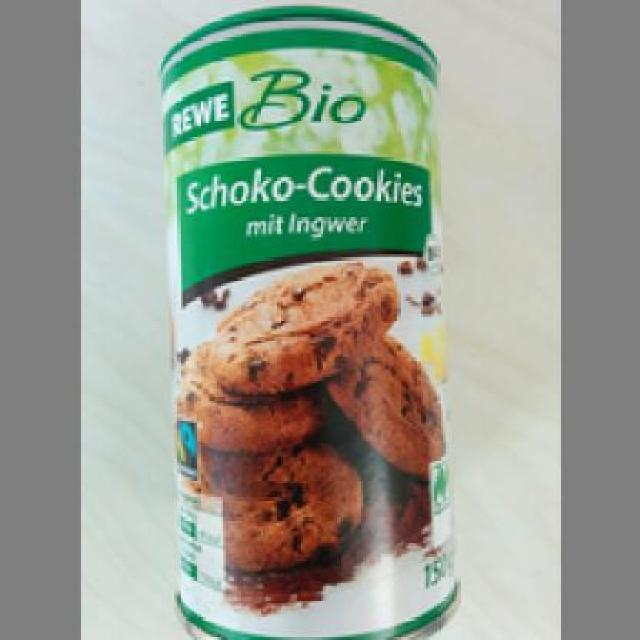Chocolate: (152, 2, 458, 638)
